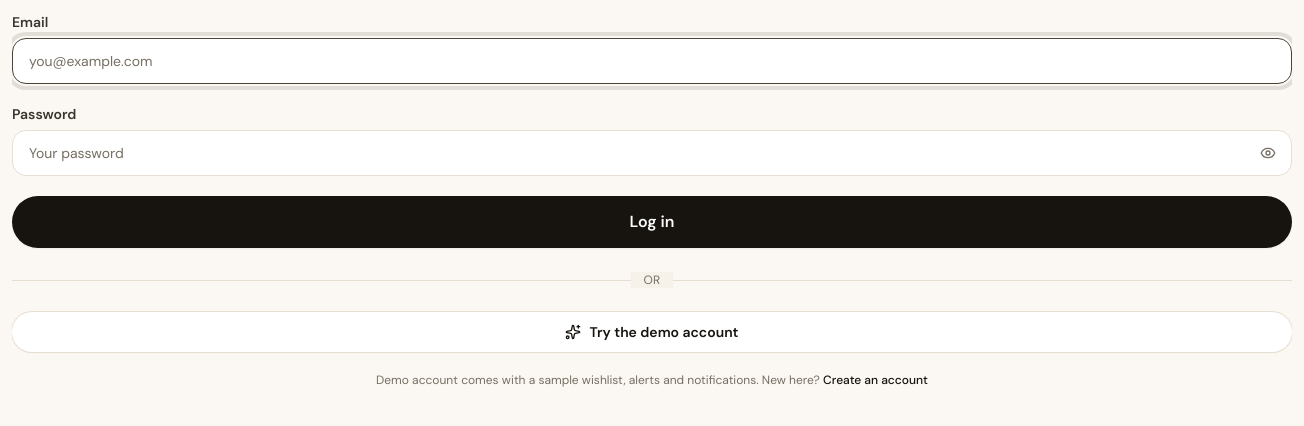
Test: LoginForm › rejects a malformed email
Type "not-an-email" into the field labelled "Email".
click(652, 61); type("not-an-email")  # box [12,38,1292,84]
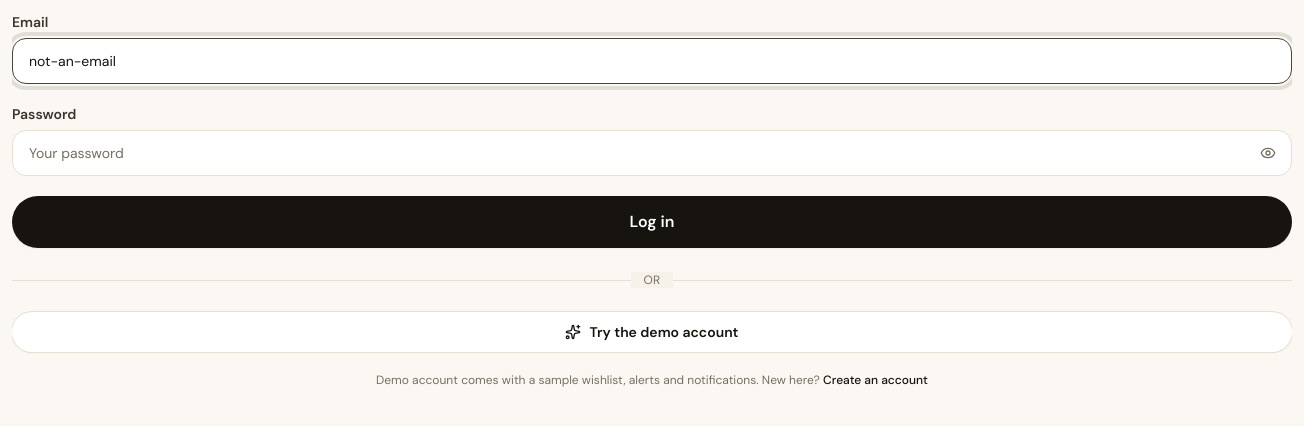
Type "secret123" into the password field labelled "Password".
click(652, 153); type("secret123")  # box [12,130,1292,176]
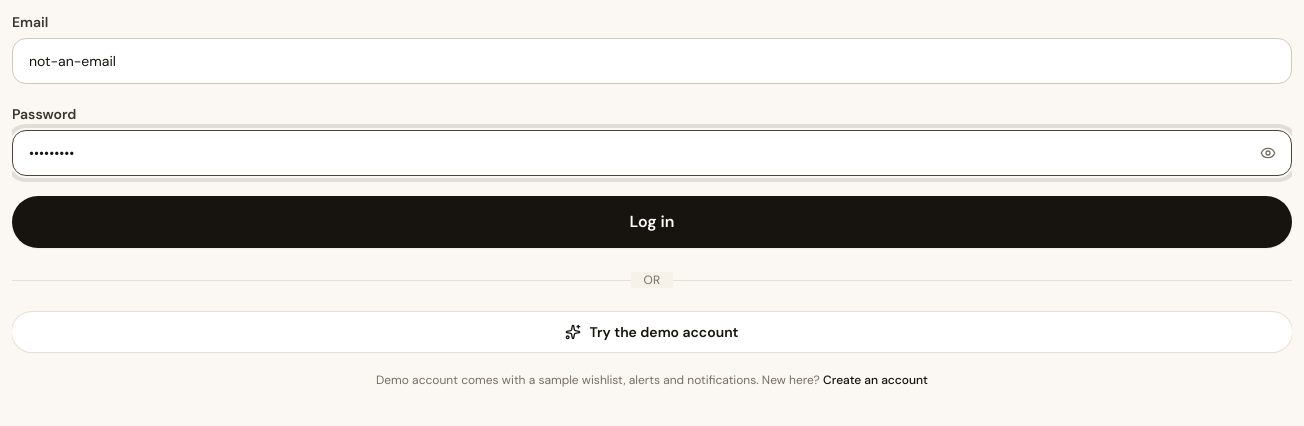
Click the button "Log in".
click(652, 222)  # box [12,196,1292,248]
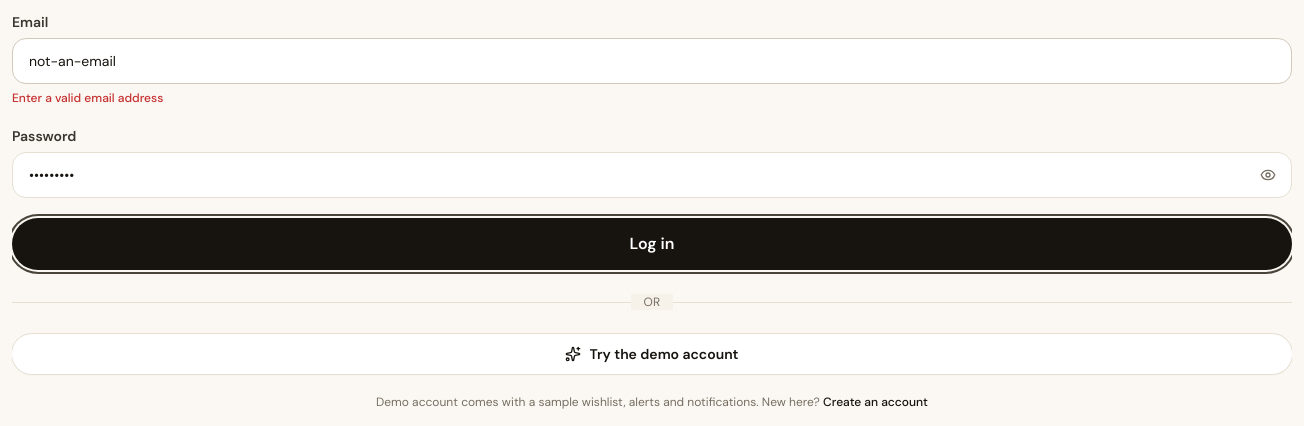
Expected: the text "Enter a valid email address" is shown, [12,90,163,106]
